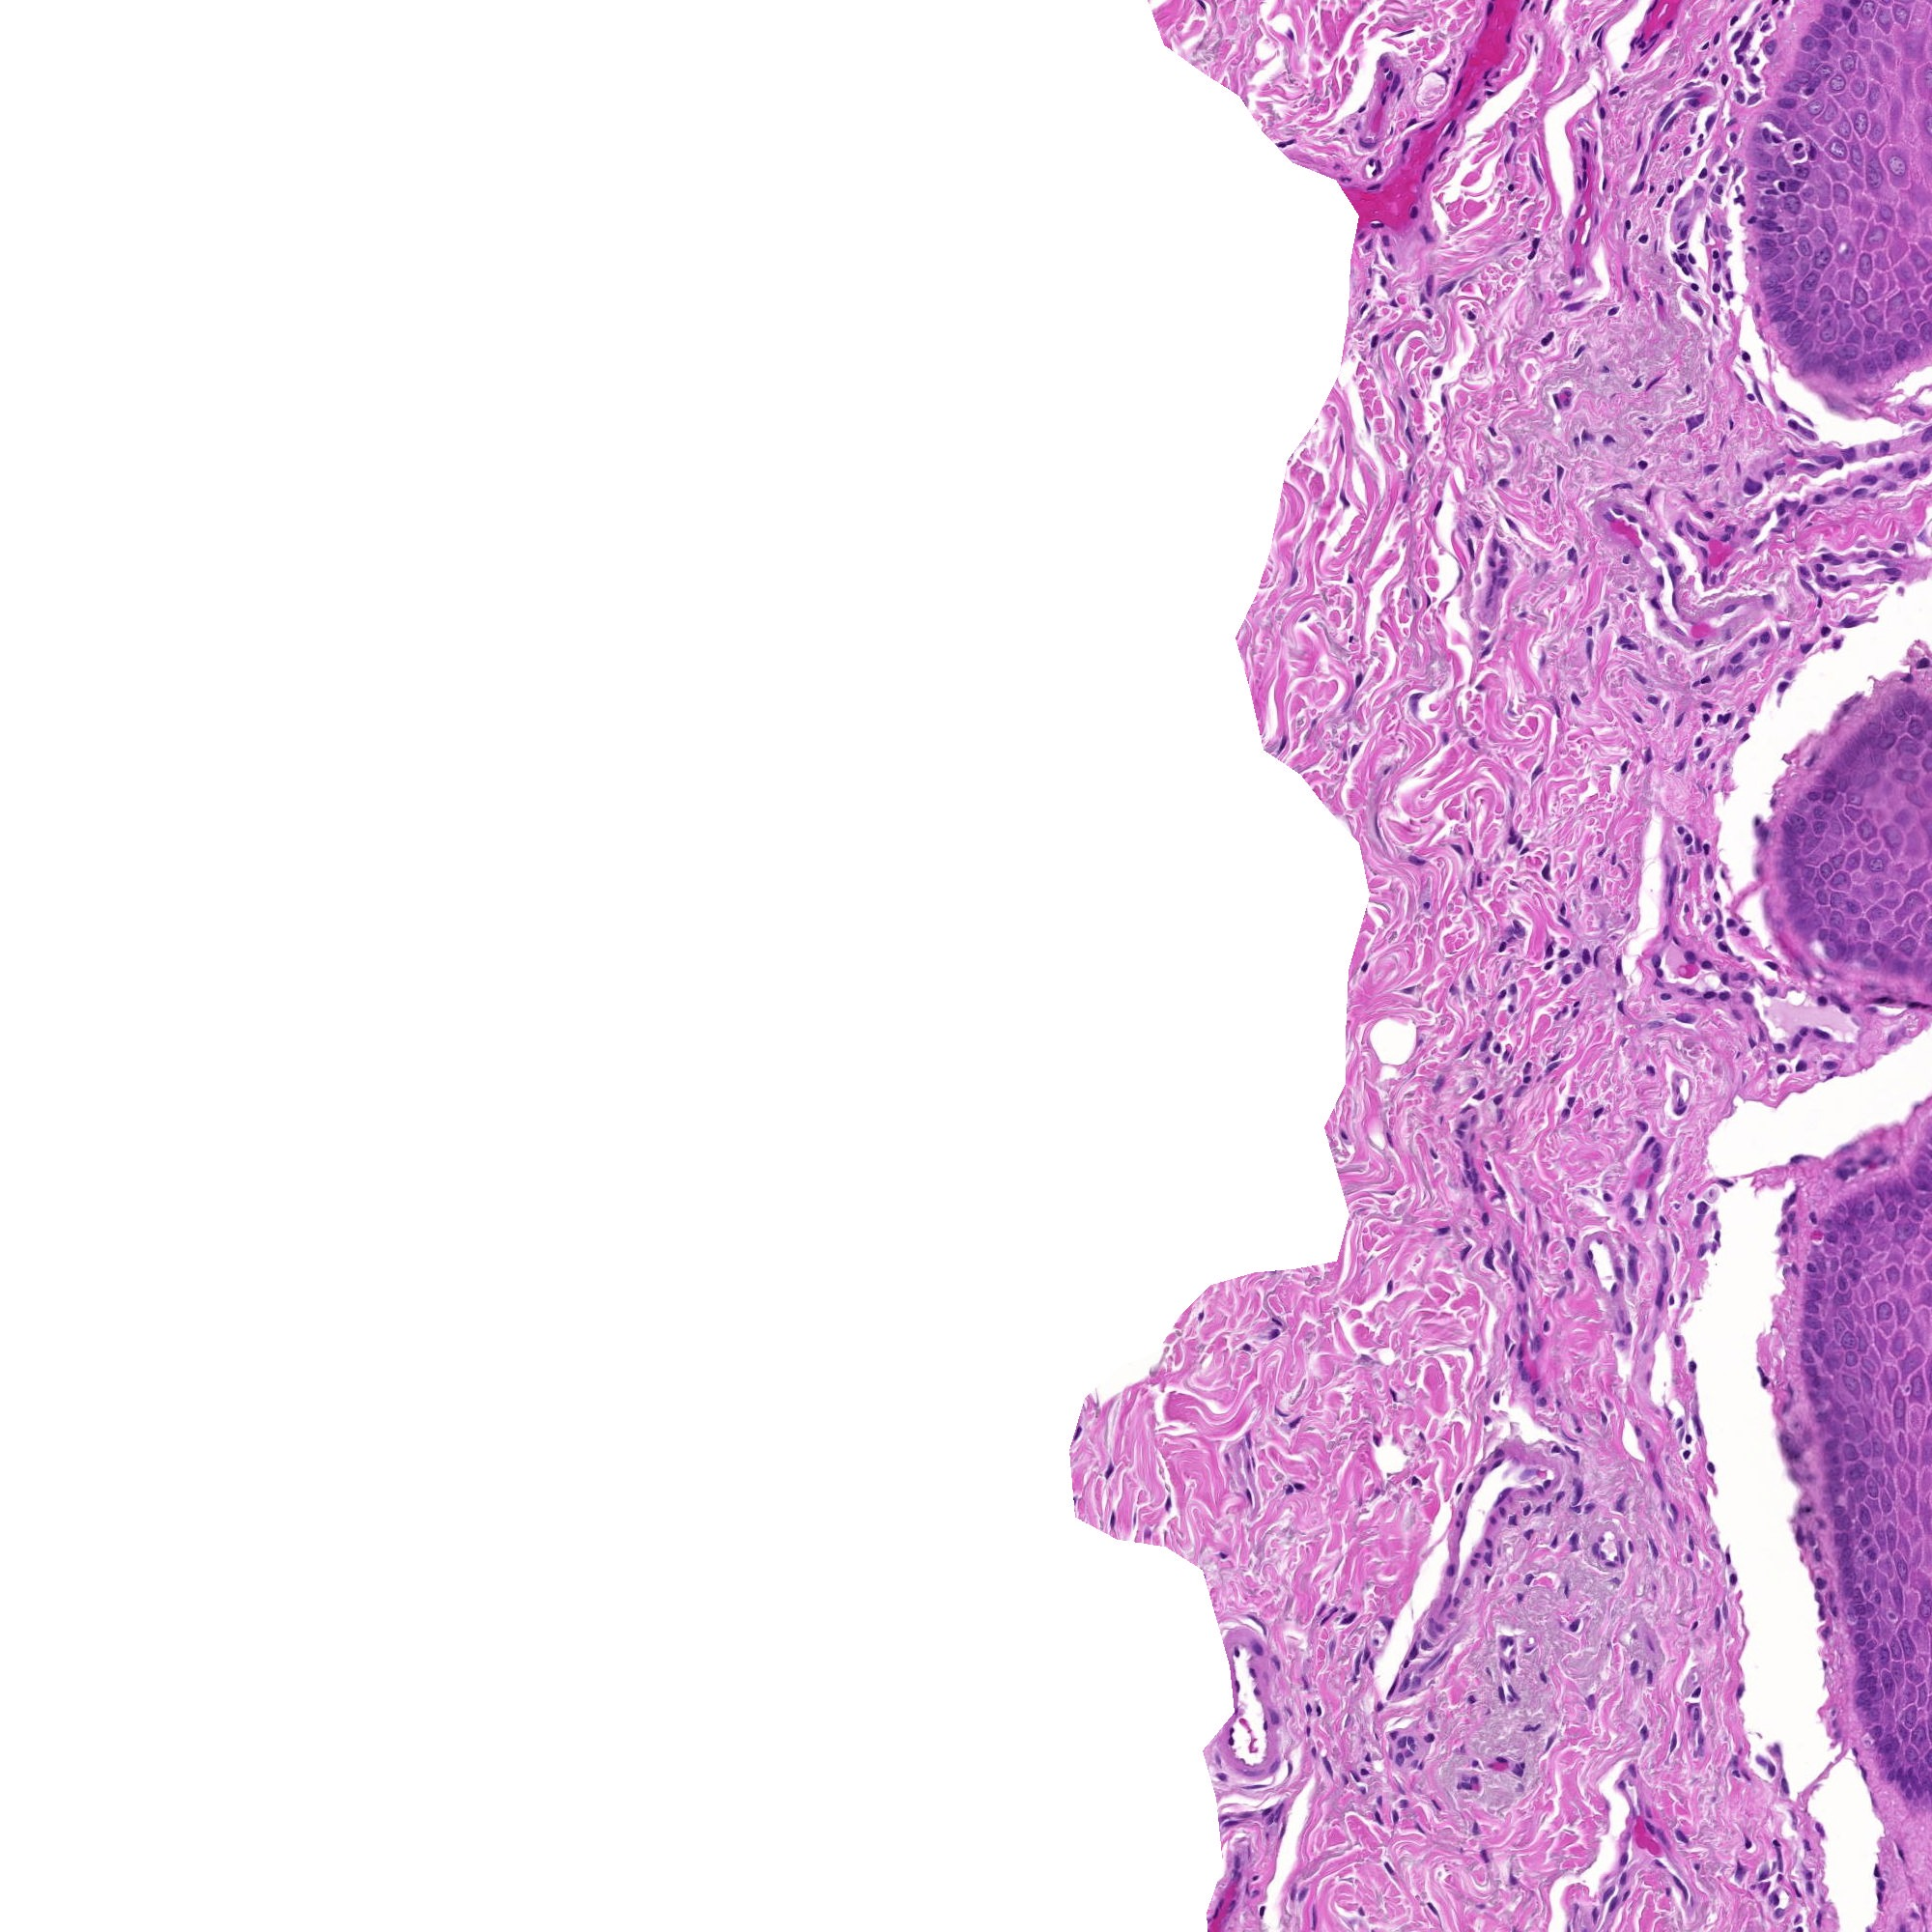epithelial: (1826, 356, 1859, 387), (1888, 692, 1920, 725), (1790, 1343, 1822, 1376), (1325, 426, 1357, 458), (1399, 681, 1431, 713), (1421, 1067, 1453, 1099), (1221, 1851, 1253, 1882), (1794, 73, 1826, 104), (1810, 343, 1842, 375), (1870, 198, 1902, 230), (1819, 387, 1851, 419), (1789, 209, 1821, 241), (1858, 218, 1890, 249), (1888, 258, 1920, 290), (1799, 65, 1831, 97), (1757, 165, 1789, 196), (1798, 780, 1829, 812), (1831, 690, 1863, 722), (1847, 911, 1879, 943), (1835, 738, 1867, 770), (1886, 801, 1918, 833), (1812, 920, 1844, 952), (1897, 879, 1928, 911), (1861, 872, 1893, 904), (1891, 731, 1923, 763), (1874, 823, 1905, 855), (1778, 872, 1810, 904), (1882, 699, 1914, 731), (1826, 1157, 1858, 1189), (1884, 1175, 1916, 1207), (1836, 1258, 1868, 1290), (1799, 1279, 1831, 1311), (1858, 1139, 1890, 1171), (1769, 1421, 1801, 1453), (1824, 1283, 1856, 1315), (1874, 1196, 1905, 1228), (1867, 1295, 1898, 1327), (1875, 1173, 1907, 1205), (1833, 1148, 1865, 1180), (1815, 1207, 1847, 1238), (1799, 1380, 1831, 1412), (1835, 1214, 1867, 1246), (1851, 1364, 1882, 1396), (1833, 1419, 1865, 1451), (1790, 1421, 1822, 1453), (1840, 1456, 1872, 1488), (1826, 1506, 1858, 1537), (1872, 1667, 1904, 1698), (1829, 1541, 1861, 1573), (1895, 1750, 1927, 1782), (1847, 1499, 1879, 1530), (1877, 1759, 1909, 1790), (1805, 1507, 1836, 1539), (1895, 1484, 1927, 1516), (1847, 1631, 1879, 1663), (1829, 1456, 1861, 1488), (1854, 1693, 1886, 1725), (1757, 219, 1787, 253), (1898, 1658, 1928, 1691), (1821, 1486, 1851, 1520), (1394, 460, 1426, 490), (1277, 561, 1309, 591), (1254, 1798, 1284, 1829), (1419, 1612, 1451, 1642), (1207, 1891, 1237, 1923), (1215, 1888, 1246, 1920), (1201, 1898, 1231, 1930), (1771, 170, 1801, 202), (1886, 334, 1916, 366), (1785, 154, 1815, 186), (1753, 209, 1783, 241), (1750, 161, 1782, 191), (1767, 299, 1798, 331), (1780, 166, 1810, 198), (1872, 37, 1902, 69), (1858, 156, 1888, 188), (1759, 173, 1790, 203), (1810, 28, 1840, 60), (1792, 269, 1824, 299), (1813, 212, 1845, 242), (1739, 205, 1771, 235), (1796, 27, 1826, 58), (1849, 249, 1881, 280), (1780, 318, 1812, 349), (1806, 18, 1836, 50), (1759, 272, 1790, 303), (1792, 349, 1824, 379), (1874, 343, 1904, 375), (1752, 182, 1783, 212), (1771, 113, 1803, 143), (1812, 12, 1844, 42), (1748, 142, 1778, 173), (1787, 145, 1819, 175), (1767, 94, 1798, 126), (1743, 234, 1773, 265), (1773, 156, 1805, 186), (1836, 322, 1868, 352), (1831, 338, 1861, 370), (1773, 182, 1805, 212), (1757, 143, 1789, 173), (1824, 295, 1856, 326), (1776, 306, 1808, 336), (1895, 32, 1927, 62), (1805, 246, 1835, 278), (1882, 152, 1913, 184), (1780, 809, 1812, 839), (1748, 817, 1780, 847), (1849, 725, 1881, 755), (1872, 724, 1904, 754), (1826, 932, 1858, 962), (1865, 936, 1897, 966), (1898, 709, 1928, 741), (1803, 807, 1835, 837), (1796, 743, 1826, 775), (1803, 796, 1833, 828), (1897, 722, 1928, 752), (1859, 725, 1890, 757), (1463, 863, 1493, 895), (1836, 846, 1868, 876), (1856, 713, 1888, 743), (1824, 770, 1854, 801), (1782, 881, 1812, 913), (1859, 847, 1890, 879), (1851, 814, 1881, 846), (1812, 851, 1842, 883), (1861, 743, 1893, 773), (1789, 908, 1819, 939), (1815, 938, 1847, 968), (1833, 747, 1863, 778), (1714, 593, 1746, 623), (1865, 718, 1897, 748), (1854, 1146, 1884, 1178), (1801, 1366, 1831, 1398), (1798, 1357, 1828, 1389), (1798, 1253, 1828, 1284), (1829, 1207, 1859, 1238), (1803, 1329, 1835, 1359), (1796, 1307, 1826, 1339), (1891, 1215, 1923, 1246), (1445, 1111, 1476, 1143), (1882, 1329, 1913, 1361), (1867, 1143, 1897, 1175), (1893, 1350, 1925, 1380), (1815, 1346, 1845, 1378), (1835, 1203, 1867, 1233), (1893, 1182, 1923, 1214), (1821, 1396, 1851, 1428), (1819, 1414, 1849, 1445), (1796, 1318, 1828, 1348), (1812, 1408, 1844, 1438), (1856, 1537, 1886, 1569), (1847, 1686, 1879, 1716), (1826, 1525, 1858, 1555), (1785, 1520, 1817, 1550), (1454, 1767, 1484, 1799), (1833, 1575, 1865, 1605), (1817, 1592, 1849, 1622), (1801, 1539, 1833, 1569), (1851, 1525, 1881, 1557), (1898, 1773, 1928, 1805), (1605, 1488, 1635, 1520), (1831, 1555, 1863, 1585), (1840, 1585, 1872, 1615), (1778, 1440, 1810, 1470), (1891, 1626, 1923, 1656), (1851, 1644, 1881, 1675), (1819, 1444, 1849, 1476), (1861, 1583, 1893, 1614), (1886, 1718, 1918, 1748), (1852, 1654, 1882, 1686), (1840, 1479, 1870, 1511), (1874, 1518, 1904, 1550), (1845, 1610, 1875, 1642), (1444, 1507, 1476, 1537), (1865, 1727, 1897, 1757), (1836, 1438, 1867, 1470), (1888, 1619, 1920, 1649), (1844, 1576, 1874, 1608), (1734, 464, 1767, 492), (1350, 1343, 1380, 1373), (1373, 1122, 1403, 1152), (1214, 1806, 1244, 1836), (1258, 1750, 1288, 1780), (1771, 88, 1801, 119), (1798, 136, 1828, 166), (1679, 83, 1709, 113), (1787, 134, 1817, 165), (1753, 230, 1783, 260), (1767, 150, 1798, 180), (1838, 11, 1868, 41), (1810, 239, 1840, 269), (1760, 104, 1790, 134), (1854, 350, 1884, 380), (1762, 214, 1792, 244), (1755, 32, 1785, 62), (1844, 280, 1874, 310), (1472, 60, 1502, 90), (1437, 113, 1467, 143), (1812, 280, 1842, 310), (1780, 69, 1810, 99), (1755, 200, 1785, 230), (1822, 347, 1852, 377), (1767, 288, 1798, 318), (1817, 4, 1847, 34), (1882, 285, 1913, 315), (1813, 780, 1844, 810), (1815, 761, 1845, 791), (1775, 816, 1805, 846), (1836, 892, 1867, 922), (1893, 932, 1923, 962), (1773, 853, 1803, 883), (1842, 732, 1872, 763), (1895, 686, 1925, 717), (1888, 761, 1918, 791), (1868, 731, 1898, 761), (1776, 832, 1806, 862), (1824, 865, 1854, 895), (1861, 897, 1891, 927), (1840, 685, 1870, 715), (1852, 1194, 1882, 1224), (1815, 1223, 1845, 1253), (1808, 1401, 1838, 1431), (1838, 1194, 1868, 1224), (1826, 1267, 1856, 1297), (1884, 1396, 1914, 1426), (1877, 1258, 1907, 1288), (1886, 1297, 1916, 1327), (1875, 1368, 1905, 1398), (1867, 1178, 1897, 1208), (1897, 1203, 1927, 1233), (1539, 1046, 1569, 1076), (1897, 1171, 1927, 1201), (1790, 1495, 1821, 1525), (1888, 1760, 1918, 1790), (1874, 1732, 1904, 1762), (1822, 1497, 1852, 1527), (1852, 1667, 1882, 1697), (1819, 1474, 1849, 1504), (1845, 1594, 1875, 1624), (1882, 1580, 1913, 1610), (1819, 1458, 1849, 1488), (1845, 1624, 1875, 1654), (1895, 1766, 1925, 1796), (1805, 1568, 1835, 1598), (1854, 1677, 1884, 1707), (1863, 1716, 1893, 1746), (1852, 1569, 1882, 1599), (1483, 1438, 1513, 1468), (1875, 1744, 1905, 1775), (1815, 1582, 1845, 1612), (1881, 1658, 1911, 1688), (1886, 1550, 1916, 1580), (1872, 1488, 1902, 1518), (1854, 1592, 1884, 1622), (1897, 1741, 1927, 1771), (1861, 1465, 1891, 1495), (1755, 120, 1783, 152), (1776, 191, 1808, 219), (1829, 0, 1861, 28), (1859, 306, 1891, 334), (1744, 855, 1773, 886), (1881, 918, 1909, 950), (1787, 1461, 1815, 1493), (1895, 1702, 1927, 1730), (1775, 842, 1805, 870), (1798, 1292, 1826, 1322), (1868, 1640, 1898, 1668)
fibroblast and endothelial: (1730, 19, 1762, 53), (1739, 27, 1773, 58), (1470, 1028, 1502, 1062), (1836, 993, 1870, 1024), (1414, 271, 1445, 303), (1371, 234, 1403, 265), (1369, 48, 1401, 80), (1348, 287, 1380, 318), (1392, 120, 1424, 152), (1399, 586, 1431, 617), (1410, 888, 1442, 920), (1336, 623, 1368, 655), (1062, 1415, 1093, 1447), (1093, 1454, 1125, 1486), (1398, 1637, 1430, 1668), (1392, 1727, 1424, 1759), (1387, 1736, 1419, 1767), (1240, 1637, 1272, 1668), (1391, 1642, 1422, 1674), (1214, 1723, 1246, 1755), (1415, 1891, 1447, 1923), (1221, 1668, 1253, 1700), (1254, 1706, 1286, 1737), (1242, 1798, 1274, 1829), (1238, 1663, 1270, 1695), (1403, 1660, 1435, 1691), (1263, 1792, 1295, 1824), (1389, 1787, 1421, 1819), (1238, 1652, 1270, 1684), (1293, 1700, 1325, 1732), (1265, 1812, 1297, 1844), (1274, 1752, 1306, 1783), (1237, 1875, 1269, 1907), (1576, 421, 1608, 453), (1458, 88, 1490, 120), (1739, 62, 1771, 94), (1592, 423, 1624, 455), (1833, 437, 1865, 469), (1599, 74, 1631, 106), (1626, 223, 1658, 255), (1644, 186, 1675, 218), (1698, 23, 1730, 55), (1686, 55, 1718, 87), (1667, 216, 1698, 248), (1713, 180, 1744, 212), (1582, 19, 1614, 51), (1652, 103, 1684, 134), (1702, 239, 1734, 271), (1644, 285, 1675, 317), (1633, 366, 1665, 398), (1495, 172, 1527, 203), (1651, 96, 1683, 127), (1702, 175, 1734, 207), (1497, 111, 1529, 143), (1739, 377, 1771, 409), (1718, 152, 1750, 184), (1652, 7, 1684, 39), (1812, 444, 1844, 476), (1667, 230, 1698, 262), (1698, 303, 1730, 334), (1702, 260, 1734, 292), (1476, 414, 1507, 446), (1723, 12, 1755, 44), (1683, 175, 1714, 207), (1748, 9, 1780, 41), (1621, 280, 1652, 311), (1773, 400, 1805, 432), (1707, 931, 1739, 962), (1810, 548, 1842, 580), (1707, 701, 1739, 732), (1499, 823, 1530, 855), (1803, 481, 1835, 513), (1815, 543, 1847, 575), (1660, 556, 1691, 587), (1631, 740, 1663, 771), (1442, 833, 1474, 865), (1461, 506, 1493, 538), (1502, 913, 1534, 945), (1530, 479, 1562, 511), (1803, 586, 1835, 617), (1486, 543, 1518, 575), (1495, 508, 1527, 540), (1578, 867, 1610, 899), (1548, 899, 1580, 931), (1812, 563, 1844, 594), (1647, 584, 1679, 616), (1589, 603, 1621, 635), (1629, 517, 1661, 548), (1541, 694, 1573, 725), (1605, 495, 1637, 527), (1697, 704, 1729, 736), (1828, 991, 1859, 1023), (1472, 1242, 1504, 1274), (1769, 1053, 1801, 1085), (1683, 1408, 1714, 1440), (1897, 989, 1928, 1021), (1645, 1283, 1677, 1315), (1783, 1021, 1815, 1053), (1780, 1143, 1812, 1175), (1550, 962, 1582, 994), (1463, 1077, 1495, 1109), (1484, 1175, 1516, 1207), (1658, 1279, 1690, 1311), (1668, 1001, 1700, 1033), (1539, 1224, 1571, 1256), (1468, 1201, 1500, 1233), (1808, 1019, 1840, 1051), (1626, 1109, 1658, 1141), (1479, 1382, 1511, 1414), (1591, 1180, 1622, 1212), (1525, 1382, 1557, 1414), (1486, 978, 1518, 1010), (1507, 1357, 1539, 1389), (1495, 985, 1527, 1017), (1530, 1309, 1562, 1341), (1525, 1318, 1557, 1350), (1695, 1231, 1727, 1263), (1767, 1233, 1799, 1265), (1614, 1185, 1645, 1217), (1463, 1171, 1495, 1203), (1720, 996, 1752, 1028), (1729, 961, 1760, 993), (1743, 978, 1775, 1010), (1499, 1246, 1530, 1277), (1647, 1205, 1679, 1237), (1771, 1035, 1803, 1067), (1681, 1210, 1713, 1242), (1865, 1870, 1897, 1902), (1716, 1562, 1748, 1594), (1681, 1675, 1713, 1707), (1562, 1476, 1594, 1507), (1490, 1624, 1522, 1656), (1760, 1734, 1792, 1766), (1468, 1541, 1500, 1573), (1794, 1870, 1826, 1902), (1454, 1683, 1486, 1714), (1472, 1532, 1504, 1564), (1497, 1679, 1529, 1711), (1810, 1615, 1842, 1647), (1713, 1541, 1744, 1573), (1527, 1661, 1559, 1693), (1805, 1598, 1836, 1629), (1847, 1757, 1879, 1789), (1513, 1562, 1545, 1594), (1467, 1454, 1499, 1486), (1762, 1842, 1794, 1874), (1803, 1813, 1835, 1845), (1534, 1477, 1566, 1509), (1591, 1877, 1622, 1909), (1790, 1829, 1822, 1861), (1575, 1684, 1606, 1716), (1506, 1497, 1537, 1529), (1447, 1486, 1479, 1518), (1863, 1879, 1895, 1911), (1645, 1821, 1677, 1852), (1474, 1748, 1506, 1780), (1725, 1757, 1757, 1789), (1684, 1725, 1716, 1757), (1789, 556, 1819, 589), (1656, 545, 1686, 579), (1359, 324, 1389, 356), (1410, 218, 1442, 248), (1398, 196, 1430, 226), (1391, 129, 1421, 161), (1359, 150, 1391, 180), (1362, 226, 1394, 257), (1412, 110, 1442, 142), (1350, 129, 1382, 159), (1396, 106, 1426, 138), (1378, 60, 1408, 92), (1353, 228, 1384, 260), (1368, 265, 1399, 295), (1357, 172, 1389, 202), (1380, 73, 1412, 103), (1414, 150, 1444, 182), (1392, 418, 1424, 448), (1369, 80, 1399, 111), (1414, 297, 1445, 327), (1375, 242, 1407, 272), (1373, 320, 1405, 350), (1410, 280, 1440, 311), (1346, 221, 1376, 253), (1410, 423, 1442, 453), (1325, 115, 1357, 145), (1387, 18, 1419, 48), (1338, 734, 1369, 764), (1421, 492, 1451, 524), (1343, 663, 1373, 695), (1329, 485, 1361, 515), (1267, 727, 1297, 759), (1412, 586, 1442, 617), (1391, 479, 1421, 511), (1371, 754, 1401, 786), (1258, 1318, 1290, 1348), (1373, 1270, 1405, 1300), (1231, 1330, 1261, 1362), (1261, 1307, 1293, 1338), (1378, 1378, 1408, 1410), (1361, 1422, 1392, 1453), (1185, 1299, 1215, 1330), (1279, 1472, 1311, 1502), (1332, 1603, 1364, 1633), (1398, 1465, 1430, 1495), (1362, 1801, 1392, 1833), (1414, 1721, 1445, 1752), (1376, 1674, 1408, 1704), (1350, 1642, 1382, 1672), (1391, 1667, 1421, 1698), (1246, 1895, 1277, 1925), (1311, 1750, 1343, 1780), (1373, 1852, 1403, 1884), (1346, 1757, 1378, 1787), (1378, 1718, 1408, 1750), (1364, 1691, 1394, 1723), (1152, 1488, 1184, 1518), (1097, 1504, 1127, 1536), (1384, 1794, 1414, 1826), (1224, 1803, 1256, 1833), (1341, 1656, 1371, 1688), (1284, 1877, 1315, 1909), (1207, 1539, 1238, 1569), (1394, 1741, 1424, 1773), (1207, 1760, 1237, 1792), (1221, 1635, 1251, 1667), (1327, 1598, 1357, 1629), (1240, 1675, 1272, 1706), (1371, 1801, 1403, 1831), (1231, 1674, 1263, 1704), (1384, 1744, 1415, 1775), (1403, 1748, 1433, 1780), (1300, 1741, 1332, 1771), (1242, 1622, 1272, 1654), (1727, 30, 1759, 60), (1530, 324, 1562, 354), (1670, 244, 1702, 274), (1730, 81, 1762, 111), (1720, 19, 1750, 51), (1718, 4, 1748, 35), (1723, 41, 1755, 71), (1730, 340, 1760, 372), (1697, 104, 1729, 134), (1624, 27, 1656, 57), (1518, 150, 1550, 180), (1679, 405, 1711, 435), (1559, 290, 1589, 322), (1553, 281, 1583, 313), (1583, 166, 1615, 196), (1622, 366, 1652, 398), (1677, 269, 1707, 301), (1624, 172, 1654, 203), (1767, 391, 1799, 421), (1681, 292, 1713, 322), (1695, 453, 1725, 485), (1753, 456, 1783, 488), (1891, 453, 1921, 485), (1587, 96, 1617, 127), (1656, 172, 1686, 203), (1637, 23, 1667, 55), (1569, 149, 1599, 180), (1571, 140, 1601, 172), (1545, 384, 1575, 416), (1789, 414, 1819, 446), (1598, 295, 1628, 327), (1564, 425, 1596, 455), (1782, 437, 1812, 469), (1516, 237, 1548, 267), (1640, 175, 1672, 205), (1610, 258, 1640, 290), (1509, 221, 1541, 251), (1684, 124, 1716, 154), (1744, 35, 1775, 67), (1628, 149, 1658, 180), (1737, 73, 1769, 103), (1691, 207, 1723, 237), (1672, 373, 1704, 403), (1695, 30, 1725, 62), (1891, 663, 1923, 694), (1821, 628, 1852, 658), (1833, 607, 1865, 637), (1727, 916, 1759, 947), (1819, 568, 1851, 598), (1767, 671, 1798, 702), (1688, 833, 1720, 863), (1688, 671, 1720, 701), (1737, 692, 1769, 722), (1670, 823, 1702, 853), (1686, 522, 1718, 552), (1882, 531, 1914, 561), (1608, 752, 1640, 782), (1484, 531, 1514, 563), (1716, 908, 1748, 938), (1647, 563, 1679, 593), (1856, 538, 1886, 570), (1486, 931, 1518, 961), (1718, 706, 1750, 736), (1506, 832, 1537, 862), (1877, 556, 1909, 586), (1727, 715, 1757, 747), (1769, 506, 1799, 538), (1468, 635, 1500, 665), (1675, 939, 1707, 970), (1805, 559, 1836, 589), (1615, 502, 1647, 533), (1665, 860, 1695, 892), (1684, 731, 1716, 761), (1654, 879, 1686, 909), (1773, 488, 1803, 520), (1691, 688, 1721, 720), (1637, 685, 1668, 715), (1640, 943, 1672, 973), (1479, 550, 1511, 580), (1721, 642, 1752, 674), (1744, 625, 1775, 656), (1573, 625, 1605, 655), (1674, 481, 1706, 511), (1656, 867, 1686, 899), (1486, 559, 1516, 591), (1642, 575, 1672, 607), (1467, 619, 1499, 649), (1796, 488, 1826, 520), (1663, 704, 1693, 736), (1736, 518, 1766, 550), (1690, 943, 1721, 973), (1881, 543, 1913, 573), (1693, 559, 1723, 591), (1665, 816, 1697, 846), (1463, 671, 1495, 701), (1458, 727, 1488, 759), (1548, 929, 1580, 959), (1660, 586, 1691, 616), (1674, 513, 1706, 543), (1704, 858, 1734, 890), (1690, 844, 1720, 876), (1679, 826, 1709, 858), (1771, 663, 1801, 695), (1752, 584, 1783, 614), (1688, 534, 1720, 564), (1702, 901, 1734, 931), (1867, 543, 1897, 575), (1794, 570, 1824, 602), (1684, 626, 1714, 658), (1822, 607, 1852, 639), (1552, 1092, 1583, 1122), (1799, 1017, 1831, 1047), (1806, 984, 1836, 1016), (1677, 1350, 1707, 1382), (1870, 984, 1900, 1016), (1493, 975, 1525, 1005), (1709, 1168, 1741, 1198), (1681, 977, 1713, 1007), (1672, 975, 1702, 1007), (1483, 1031, 1513, 1063), (1764, 1031, 1794, 1063), (1663, 1093, 1695, 1123), (1637, 1129, 1668, 1159), (1520, 1369, 1550, 1401), (1552, 1260, 1583, 1290), (1702, 1221, 1732, 1253), (1732, 982, 1762, 1014), (1642, 1139, 1672, 1171), (1615, 1251, 1647, 1281), (1555, 1226, 1587, 1256), (1683, 1189, 1714, 1219), (1605, 989, 1635, 1021), (1617, 1240, 1647, 1272), (1686, 1235, 1716, 1267), (1813, 1051, 1845, 1081), (1635, 1054, 1665, 1086), (1506, 1336, 1536, 1368), (1631, 1185, 1661, 1217), (1819, 985, 1851, 1016), (1718, 980, 1750, 1010), (1691, 1194, 1723, 1224), (1504, 1263, 1534, 1295), (1615, 1196, 1647, 1226), (1559, 993, 1591, 1023), (1530, 1223, 1560, 1254), (1486, 1247, 1518, 1277), (1642, 1150, 1672, 1182), (1775, 1253, 1805, 1284), (1470, 1403, 1500, 1435), (1511, 1053, 1543, 1083), (1451, 1146, 1483, 1177), (1612, 1313, 1644, 1343), (1757, 975, 1787, 1007), (1548, 996, 1580, 1026), (1798, 1201, 1828, 1233), (1856, 971, 1886, 1003), (1668, 1279, 1698, 1311), (1484, 1099, 1516, 1129), (1624, 1415, 1654, 1447), (1511, 1327, 1543, 1357), (1507, 1311, 1539, 1341), (1537, 1387, 1569, 1417), (1675, 1180, 1706, 1212), (1511, 1258, 1541, 1290), (1456, 1100, 1486, 1132), (1635, 1168, 1665, 1200), (1679, 1688, 1711, 1718), (1552, 1525, 1582, 1557), (1732, 1828, 1762, 1859), (1665, 1821, 1697, 1851), (1559, 1610, 1589, 1642), (1861, 1856, 1893, 1886), (1453, 1472, 1484, 1502), (1695, 1453, 1727, 1483), (1725, 1675, 1755, 1707), (1513, 1518, 1545, 1548), (1490, 1504, 1522, 1534), (1760, 1829, 1792, 1859), (1725, 1854, 1755, 1886), (1467, 1564, 1499, 1594), (1619, 1651, 1649, 1683), (1486, 1744, 1516, 1776), (1608, 1844, 1640, 1874), (1562, 1488, 1594, 1518), (1518, 1495, 1550, 1525), (1598, 1888, 1629, 1918), (1642, 1463, 1674, 1493), (1629, 1716, 1660, 1748), (1748, 1859, 1778, 1891), (1704, 1599, 1734, 1631), (1605, 1539, 1637, 1569), (1792, 1861, 1824, 1891), (1460, 1813, 1491, 1844), (1886, 1836, 1916, 1868), (1803, 1902, 1835, 1932), (1497, 1865, 1529, 1895), (1580, 1534, 1612, 1564), (1504, 1582, 1536, 1612), (1458, 1546, 1488, 1578), (1658, 1497, 1688, 1529), (1681, 1698, 1713, 1729), (1688, 1527, 1720, 1557), (1580, 1898, 1610, 1930), (1617, 1753, 1647, 1785), (1720, 1748, 1750, 1780), (1762, 1897, 1794, 1927), (1437, 1555, 1468, 1585), (1688, 1483, 1718, 1514), (1481, 1447, 1511, 1479), (1605, 1874, 1635, 1905), (1550, 1573, 1582, 1603), (1269, 129, 1299, 159), (1421, 356, 1451, 386), (1362, 209, 1392, 239), (1276, 19, 1306, 50), (1352, 297, 1382, 327), (1378, 288, 1408, 318), (1401, 846, 1431, 876), (1394, 975, 1424, 1005), (1329, 1120, 1359, 1150), (1385, 1723, 1415, 1753), (1300, 1695, 1330, 1725), (1373, 1606, 1403, 1637), (1408, 1629, 1438, 1660), (1343, 1647, 1373, 1677), (1313, 1599, 1343, 1629), (1261, 1647, 1292, 1677), (1417, 1647, 1447, 1677), (1233, 1479, 1263, 1509), (1394, 1661, 1424, 1691), (1334, 1762, 1364, 1792), (1244, 1606, 1274, 1637), (1520, 228, 1550, 258), (1568, 163, 1598, 193), (1456, 301, 1486, 331), (1571, 129, 1601, 159), (1822, 448, 1852, 478), (1714, 280, 1744, 310), (1612, 209, 1642, 239), (1672, 255, 1702, 285), (1560, 257, 1591, 287), (1737, 46, 1767, 76), (1444, 71, 1474, 101), (1545, 456, 1575, 487), (1792, 451, 1822, 481), (1744, 460, 1775, 490), (1854, 464, 1884, 494), (1491, 142, 1522, 172), (1713, 25, 1743, 55), (1713, 262, 1743, 292), (1730, 67, 1760, 97), (1766, 495, 1796, 525), (1530, 856, 1560, 886), (1755, 621, 1785, 651), (1546, 938, 1576, 968), (1769, 617, 1799, 648), (1534, 934, 1564, 964), (1612, 628, 1642, 658), (1571, 939, 1601, 970), (1704, 916, 1734, 947), (1560, 683, 1591, 713), (1557, 540, 1587, 570), (1790, 633, 1821, 663), (1454, 531, 1484, 561), (1633, 481, 1663, 511), (1640, 587, 1670, 617), (1693, 856, 1723, 886), (1522, 757, 1552, 787), (1688, 740, 1718, 770), (1665, 750, 1695, 780), (1622, 702, 1652, 732), (1665, 511, 1695, 541), (1654, 534, 1684, 564), (1798, 554, 1828, 584), (1603, 943, 1633, 973), (1748, 504, 1778, 534), (1624, 662, 1654, 692), (1652, 916, 1683, 947), (1612, 543, 1642, 573), (1897, 655, 1927, 685), (1661, 924, 1691, 954), (1785, 1051, 1815, 1081), (1706, 982, 1736, 1012), (1693, 980, 1723, 1010), (1750, 1364, 1780, 1394), (1776, 1184, 1806, 1214), (1684, 1200, 1714, 1230), (1451, 1031, 1481, 1062), (1582, 1097, 1612, 1127), (1709, 962, 1739, 993), (1769, 1212, 1799, 1242), (1522, 1329, 1552, 1359), (1720, 961, 1750, 991), (1483, 1085, 1513, 1115), (1603, 1256, 1633, 1286), (1511, 1065, 1541, 1095), (1573, 1244, 1603, 1274), (1599, 1274, 1629, 1304), (1458, 1164, 1488, 1194), (1782, 1039, 1812, 1069), (1651, 1260, 1681, 1290), (1672, 1422, 1702, 1453), (1775, 1203, 1805, 1233), (1454, 968, 1484, 998), (1495, 1240, 1525, 1270), (1463, 1155, 1493, 1185), (1665, 1408, 1695, 1438), (1451, 1095, 1481, 1125), (1504, 1076, 1534, 1106), (1474, 1021, 1504, 1051), (1491, 1231, 1522, 1261), (1460, 1072, 1490, 1102), (1589, 1401, 1619, 1431), (1759, 1884, 1789, 1914), (1769, 1769, 1799, 1799), (1504, 1753, 1534, 1783), (1665, 1870, 1695, 1900), (1755, 1753, 1785, 1783), (1575, 1491, 1605, 1522), (1495, 1649, 1525, 1679), (1527, 1474, 1557, 1504), (1468, 1840, 1499, 1870), (1486, 1677, 1516, 1707), (1635, 1661, 1665, 1691), (1672, 1438, 1702, 1468), (1530, 1493, 1560, 1523), (1488, 1483, 1518, 1513), (1608, 1863, 1638, 1893), (1516, 1713, 1546, 1743), (1453, 1566, 1483, 1596), (1658, 1727, 1688, 1757), (1486, 1495, 1516, 1525), (1560, 1440, 1591, 1470), (1539, 1527, 1569, 1557), (1782, 1875, 1812, 1905), (1675, 1527, 1706, 1557), (1764, 1760, 1794, 1790), (1536, 1727, 1566, 1757), (1499, 1507, 1529, 1537), (1637, 1813, 1667, 1844), (1638, 1534, 1668, 1564), (1442, 1562, 1472, 1592), (1336, 563, 1364, 594), (1277, 1408, 1309, 1437), (1424, 1214, 1453, 1246), (1870, 432, 1898, 464), (1702, 879, 1730, 911), (1713, 518, 1741, 550), (1744, 807, 1773, 839), (1661, 1325, 1693, 1353), (1488, 1039, 1520, 1067), (1660, 1230, 1691, 1258), (1387, 389, 1415, 419), (1407, 1651, 1437, 1679), (1778, 410, 1808, 439), (1493, 21, 1522, 51), (1566, 334, 1594, 364), (1785, 495, 1815, 524), (1904, 648, 1932, 678), (1598, 499, 1626, 529), (1451, 1231, 1479, 1261), (1545, 1481, 1573, 1511), (1598, 1548, 1626, 1578)
inflammatory: (1690, 272, 1720, 303)
lymphocyte: (1695, 152, 1727, 186), (1668, 165, 1702, 196), (1626, 448, 1658, 479), (1442, 1472, 1474, 1504), (1479, 1500, 1511, 1532), (1398, 379, 1430, 409), (1346, 92, 1376, 124), (1350, 1746, 1382, 1776), (1709, 64, 1739, 96), (1707, 152, 1737, 184), (1725, 182, 1755, 214), (1718, 113, 1748, 145), (1488, 464, 1518, 495), (1780, 129, 1812, 159), (1474, 78, 1506, 108), (1713, 104, 1744, 134), (1808, 616, 1840, 646), (1693, 499, 1723, 531), (1688, 701, 1720, 731), (1691, 904, 1723, 934), (1759, 784, 1789, 816), (1651, 980, 1681, 1012), (1472, 1150, 1504, 1180), (1773, 1378, 1803, 1410), (1654, 1874, 1686, 1904), (1458, 1748, 1490, 1778), (1688, 157, 1718, 188), (1672, 134, 1702, 165), (1683, 111, 1713, 142), (1477, 541, 1507, 571), (1741, 1024, 1771, 1054), (1702, 271, 1730, 303), (1598, 842, 1626, 872)
